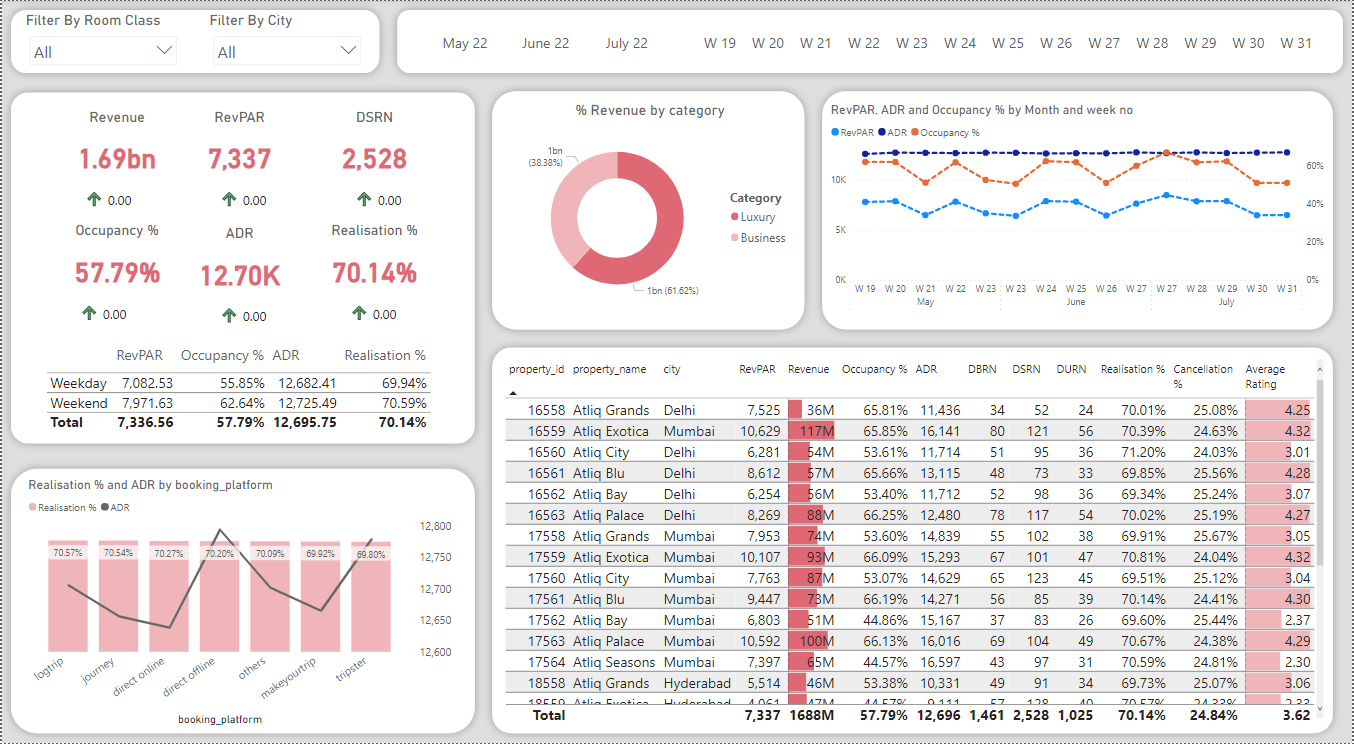

What the dashboard file says about the page in this screenshot:
{"tool":"powerbi","page":{"name":"Page 1","canvas":[1800,990],"ordinal":0},"visuals":[{"type":"shape","box":[641.7,450,1145,538.3],"z":0},{"type":"shape","box":[1081.7,108.3,705,341.7],"z":1000},{"type":"shape","box":[641.4,108.6,440,341.4],"z":2000},{"type":"shape","box":[0,612.4,642.2,376.7],"z":3000},{"type":"shape","box":[0,110,642,492],"z":4000},{"type":"shape","box":[515,0,1285,108.3],"z":5000},{"type":"shape","box":[0,0,515,108.3],"z":6000},{"type":"tableEx","fields":{"Values":["dim_hotels.property_id","dim_hotels.property_name","dim_hotels.city","key_measures (2).RevPAR","key_measures (2).Revenue","key_measures (2).Occupancy %","key_measures (2).ADR","key_measures (2).DBRN","key_measures (2).DSRN","key_measures (2).DURN","key_measures (2).Realisation %","key_measures (2).Cancellation %"]},"box":[665,473.3,1101.7,496.7],"z":7000},{"type":"slicer","title":"Filter By City","fields":{"Values":["dim_hotels.city"]},"box":[271.5,15.4,216.9,72.3],"z":8000},{"type":"slicer","title":"Filter By Room Class","fields":{"Values":["dim_rooms.room_class"]},"box":[26.9,15.4,216.2,72.3],"z":9000},{"type":"slicer","fields":{"Values":["dim_date.week no"]},"box":[900,17.7,880.8,72.3],"z":10000},{"type":"tableEx","fields":{"Values":["key_measures (2).Revenue WoW Change %"]},"box":[101.9,218,92,80],"z":11000},{"type":"donutChart","title":"% Revenue by category","fields":{"Category":["dim_hotels.category"],"Y":["key_measures (2).Revenue"]},"box":[664.3,134.3,398.6,288.6],"z":12000},{"type":"tableEx","fields":{"Values":["key_measures (2).RevPAR WoW Change %"]},"box":[281.9,218,92,80],"z":13000},{"type":"card","title":"RevPAR","fields":{"Values":["key_measures (2).RevPAR"]},"box":[227.1,142.9,180,111.4],"z":14000},{"type":"card","title":"Revenue","fields":{"Values":["key_measures (2).Revenue"]},"box":[62.9,142.9,180,111.4],"z":15000},{"type":"tableEx","fields":{"Values":["key_measures (2).DSRN WoW Change %"]},"box":[461.9,218,92,80],"z":16000},{"type":"tableEx","fields":{"Values":["key_measures (2).Occupancy WoW Change %"]},"box":[94.3,370,91.4,80],"z":17000},{"type":"tableEx","fields":{"Values":["key_measures (2).ADR WoW Change %"]},"box":[281.4,372.9,91.4,80],"z":18000},{"type":"card","title":"ADR","fields":{"Values":["key_measures (2).ADR"]},"box":[227.1,298.6,180,111.4],"z":19000},{"type":"tableEx","fields":{"Values":["key_measures (2).Realisation WoW Change %"]},"box":[454.3,370,91.4,80],"z":20000},{"type":"card","title":"DSRN","fields":{"Values":["key_measures (2).DSRN"]},"box":[407.1,142.9,180,111.4],"z":21000},{"type":"card","title":"Occupancy %","fields":{"Values":["key_measures (2).Occupancy %"]},"box":[62.9,294.3,180,111.4],"z":22000},{"type":"card","title":"Realisation %","fields":{"Values":["key_measures (2).Realisation %"]},"box":[407.1,294.3,180,111.4],"z":23000},{"type":"slicer","fields":{"Values":["dim_date.mmm yy"]},"box":[538.5,17.7,371.5,72.3],"z":24000},{"type":"lineChart","fields":{"Y":["key_measures (2).RevPAR","key_measures (2).ADR"],"Y2":["key_measures (2).Occupancy %"],"Category":["dim_date.mmm yy.Variation.Date Hierarchy.Month","dim_date.week no"]},"box":[1100,134.3,667.1,288.6],"z":25000},{"type":"lineStackedColumnComboChart","fields":{"Category":["fact_bookings.booking_platform"],"Y":["key_measures (2).Realisation %"],"Y2":["key_measures (2).ADR"]},"box":[30,634.7,574.4,335.6],"z":26000},{"type":"tableEx","fields":{"Values":["dim_date.day_type","key_measures (2).RevPAR","key_measures (2).Occupancy %","key_measures (2).ADR","key_measures (2).Realisation %"]},"box":[53.3,453.3,535.6,126.7],"z":27000}]}

Visuals, with their boxes in screenshot pixels (x1, y1, x2, y2), scaled from the page's 1800x990 canvas onto the 1354x744 screenshot:
shape: 483/338/1344/743
shape: 814/81/1344/338
shape: 482/82/813/338
shape: 0/460/483/743
shape: 0/83/483/452
shape: 387/0/1353/81
shape: 0/0/387/81
tableEx - dim_hotels.property_id x dim_hotels.property_name: 500/356/1329/729
"Filter By City" slicer: 204/12/367/66
"Filter By Room Class" slicer: 20/12/183/66
slicer - dim_date.week no: 677/13/1340/68
tableEx - key_measures (2).Revenue WoW Change %: 77/164/146/224
"% Revenue by category" donutChart: 500/101/800/318
tableEx - key_measures (2).RevPAR WoW Change %: 212/164/281/224
"RevPAR" card: 171/107/306/191
"Revenue" card: 47/107/183/191
tableEx - key_measures (2).DSRN WoW Change %: 347/164/417/224
tableEx - key_measures (2).Occupancy WoW Change %: 71/278/140/338
tableEx - key_measures (2).ADR WoW Change %: 212/280/280/340
"ADR" card: 171/224/306/308
tableEx - key_measures (2).Realisation WoW Change %: 342/278/410/338
"DSRN" card: 306/107/442/191
"Occupancy %" card: 47/221/183/305
"Realisation %" card: 306/221/442/305
slicer - dim_date.mmm yy: 405/13/685/68
lineChart - key_measures (2).RevPAR x key_measures (2).ADR: 827/101/1329/318
lineStackedColumnComboChart - fact_bookings.booking_platform x key_measures (2).Realisation %: 23/477/455/729
tableEx - dim_date.day_type x key_measures (2).RevPAR: 40/341/443/436
